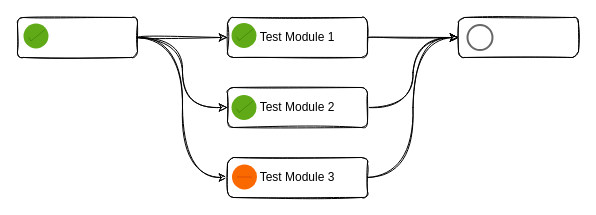
This 596x215 diagram has some shape labels left out. Here are the shapes that lost their labels. From the top down, the box of each, then its label:
(16, 16, 138, 58): Build
(458, 16, 578, 58): Deploy
